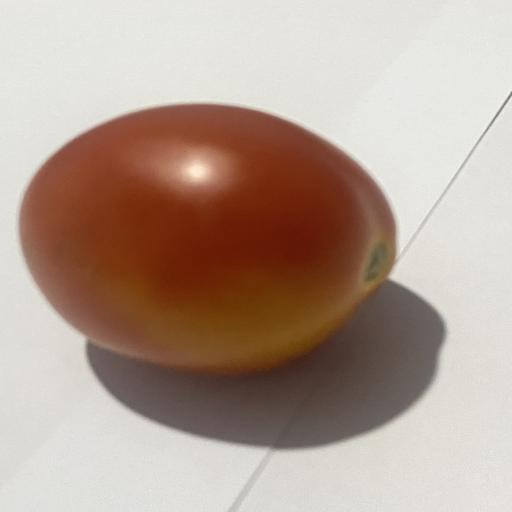ripe: (19, 104, 396, 373)
